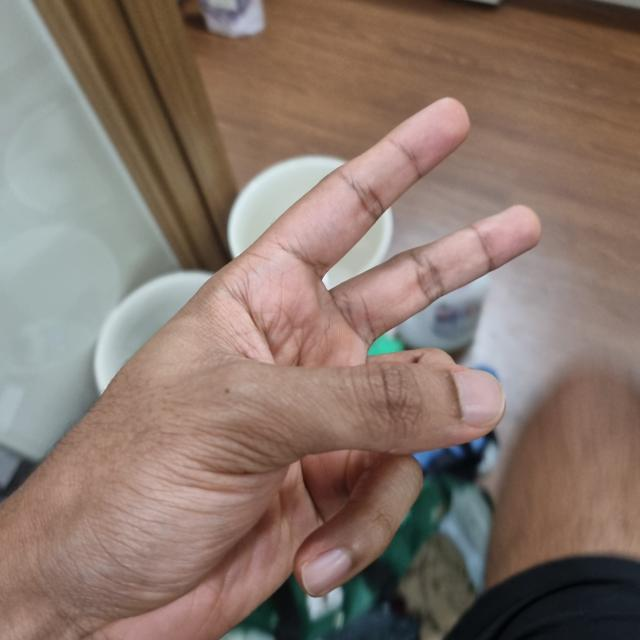Scissors: (7, 101, 538, 637)
